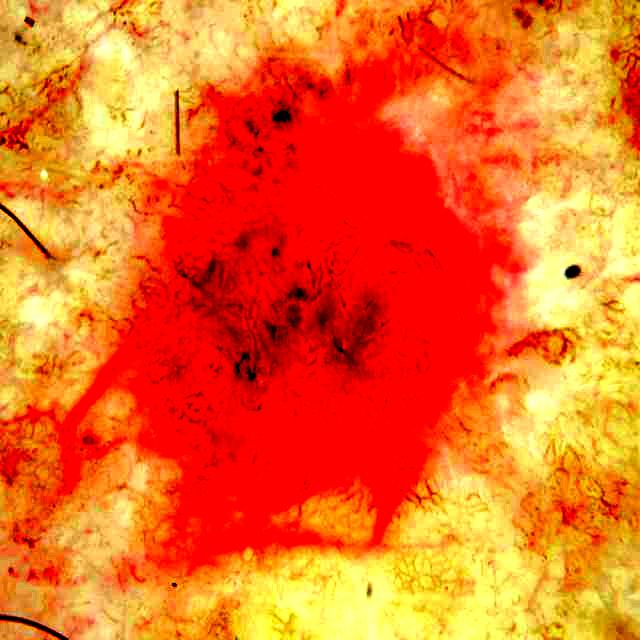BCC: (131, 95, 469, 556)
